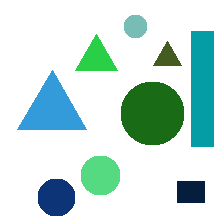circle: (121, 82, 183, 144), (81, 156, 119, 194), (38, 179, 74, 215), (124, 15, 146, 37)
rectangle: (191, 31, 213, 146), (177, 181, 204, 202)
triangle: (17, 70, 86, 129), (75, 34, 117, 70), (153, 41, 181, 65)
